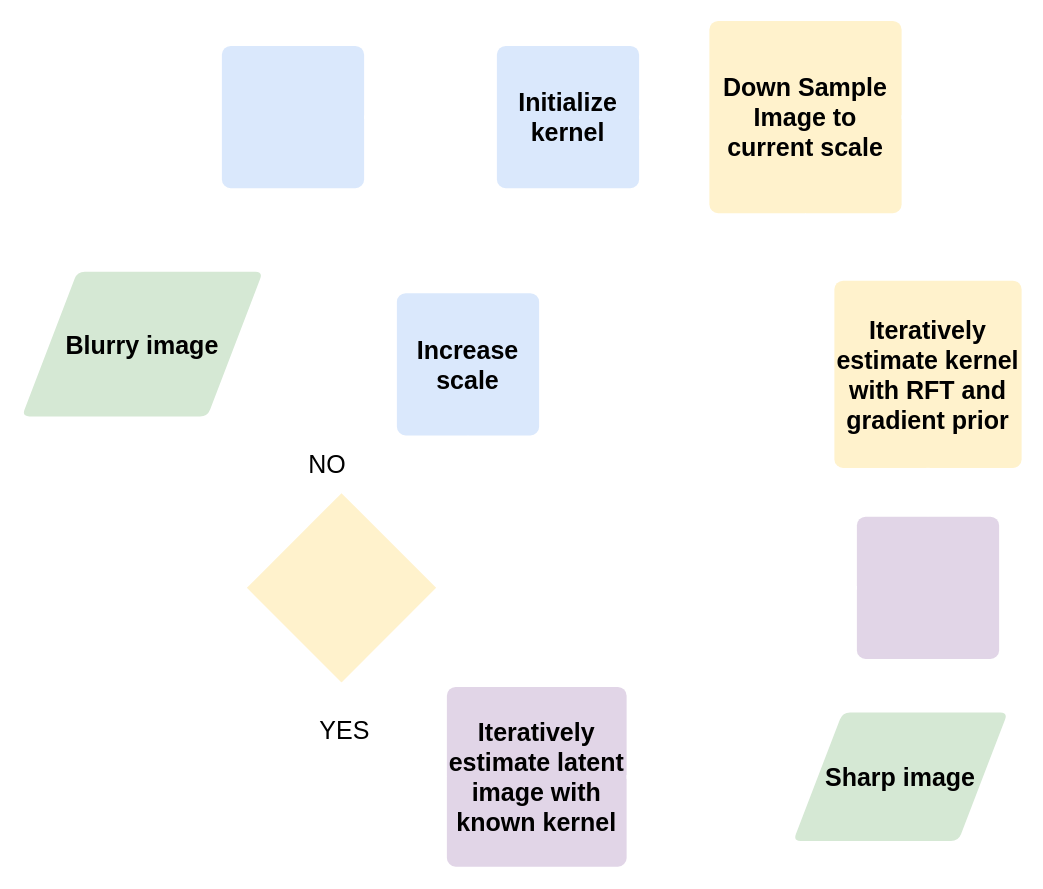
The diagram is 1043 pixels wide and 889 high, and some of its shapes have lost their labels. The shapes that lost their labels are listed below. From the top down, each one's centre as x and y in pixels, then its label:
the point at 292,116: Pre-process image
the point at 341,587: Scale = image dimension?
the point at 927,587: Remove isolated noise from kernel
